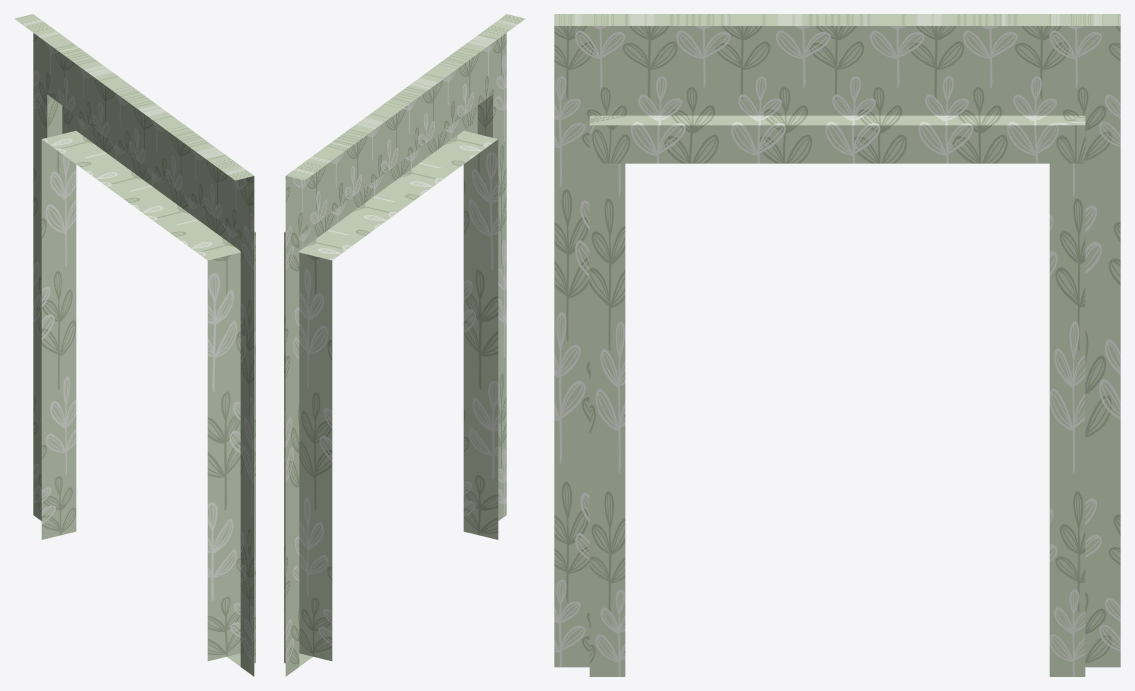
File: Doorway_unfolded.fbx
The picture shows the model from 3 angles, left to right: view 1: azimuth 30°, elevation 25°; view 2: azimuth 150°, elevation 25°; view 3: azimuth 270°, elevation 25°; orthographic projection. The views are drawn at different scales.
Parts seen in each view (by area): view 1: Wall_Outside_WindowBig.003; view 2: Wall_Outside_WindowBig.003; view 3: Wall_Outside_WindowBig.003.
Boxes of the visible parts, bbox=[...] form: Wall_Outside_WindowBig.003: bbox=[14, 14, 255, 676]; Wall_Outside_WindowBig.003: bbox=[284, 14, 525, 676]; Wall_Outside_WindowBig.003: bbox=[554, 14, 1120, 676].
Bounding box in the file's own units: 18 × 250 × 200.
